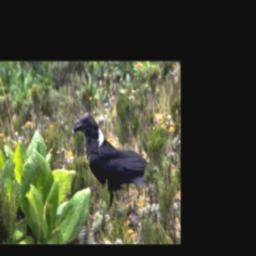Crow: (72, 111, 148, 211)
